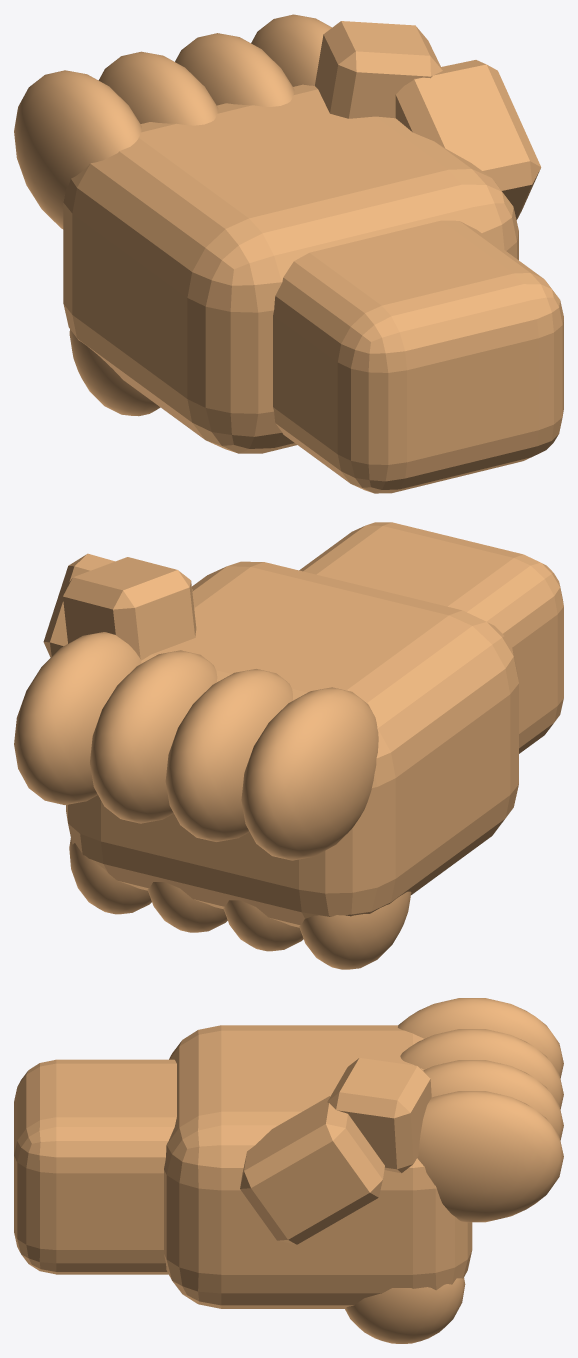
File: FP_Hand_Right.fbx
The picture shows the model from 3 angles, top to bottom: view 1: azimuth 30°, elevation 25°; view 2: azimuth 150°, elevation 25°; view 3: azimuth 270°, elevation 25°; orthographic projection. The views are drawn at different scales.
Parts seen in each view (by area): view 1: Palm.001, Wrist.001, Thumb.001, Knuckle.004, ThumbTip.001, Knuckle.005, Knuckle.006, Knuckle.007, FoldedFinger.004; view 2: Palm.001, Wrist.001, Knuckle.004, Knuckle.006, Knuckle.005, Knuckle.007, ThumbTip.001, FoldedFinger.004, FoldedFinger.007, FoldedFinger.005, FoldedFinger.006, Thumb.001; view 3: Palm.001, Wrist.001, Knuckle.007, Thumb.001, ThumbTip.001, FoldedFinger.007, Knuckle.004, Knuckle.005, Knuckle.006.
Part boxes in pixels (bbox=[...]): Palm.001: bbox=[63, 84, 518, 453]; Wrist.001: bbox=[273, 220, 563, 493]; Thumb.001: bbox=[395, 60, 541, 219]; Knuckle.004: bbox=[14, 70, 141, 229]; ThumbTip.001: bbox=[315, 21, 442, 118]; Knuckle.005: bbox=[98, 51, 218, 125]; Knuckle.006: bbox=[175, 33, 294, 106]; Knuckle.007: bbox=[251, 14, 331, 86]; FoldedFinger.004: bbox=[69, 329, 160, 416]; Palm.001: bbox=[66, 561, 518, 927]; Wrist.001: bbox=[299, 522, 563, 753]; Knuckle.004: bbox=[241, 687, 378, 860]; Knuckle.006: bbox=[90, 650, 217, 823]; Knuckle.005: bbox=[165, 669, 292, 841]; Knuckle.007: bbox=[14, 632, 141, 804]; ThumbTip.001: bbox=[63, 557, 196, 660]; FoldedFinger.004: bbox=[299, 891, 411, 969]; FoldedFinger.007: bbox=[69, 838, 151, 914]; FoldedFinger.005: bbox=[223, 900, 303, 951]; FoldedFinger.006: bbox=[147, 882, 227, 932]; Thumb.001: bbox=[43, 553, 192, 657]; Palm.001: bbox=[164, 1025, 472, 1308]; Wrist.001: bbox=[14, 1059, 176, 1274]; Knuckle.007: bbox=[417, 1091, 563, 1222]; Thumb.001: bbox=[240, 1095, 384, 1244]; ThumbTip.001: bbox=[327, 1058, 431, 1173]; FoldedFinger.007: bbox=[345, 1277, 465, 1343]; Knuckle.004: bbox=[398, 998, 563, 1078]; Knuckle.005: bbox=[400, 1029, 563, 1109]; Knuckle.006: bbox=[423, 1060, 563, 1140].
Bounding box in the file's own units: 25.92 × 21.42 × 39.
